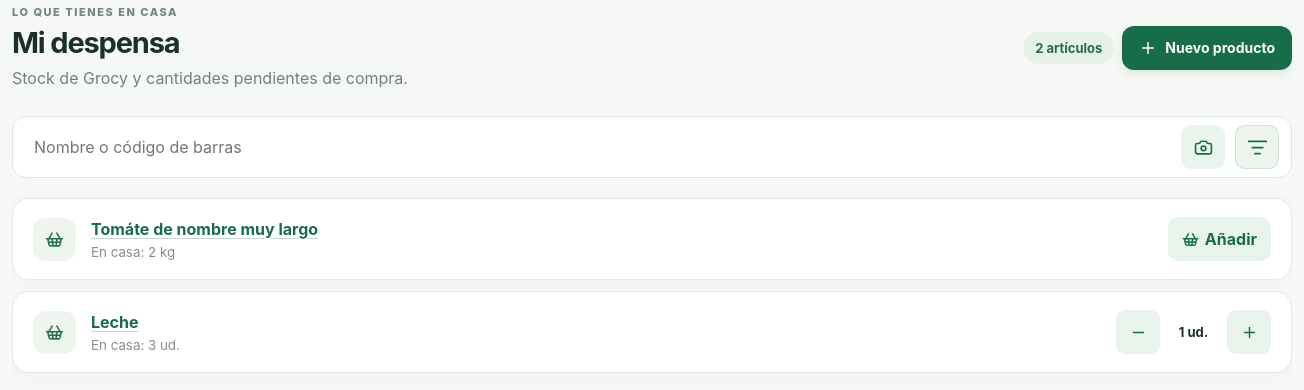
Test: inventory interactions › filters by typed barcode automatically without opening a product sheet
expect the button named "Abrir cámara para escanear" is shown: met, box top-left (1181, 125), bottom-right (1225, 169)
expect the button "Leche" is shown: met, box top-left (91, 312), bottom-right (138, 332)
Type "8412345678901" into the field named "Buscar por nombre o código de barras".
click(598, 147); type("8412345678901")  # box top-left (25, 128), bottom-right (1171, 166)
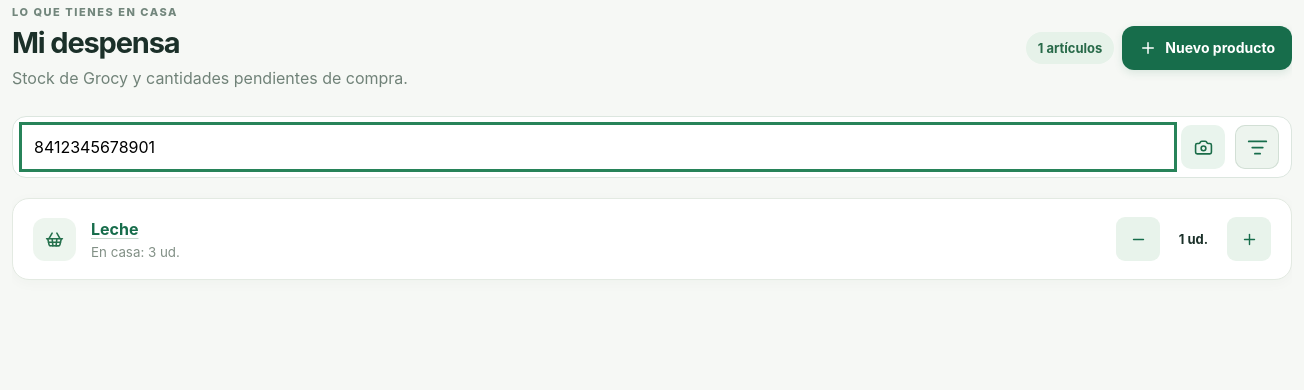
expect the button "Leche" is shown: met, box top-left (91, 218), bottom-right (138, 238)
expect the button "Tomáte de nombre muy largo" is gone: met
